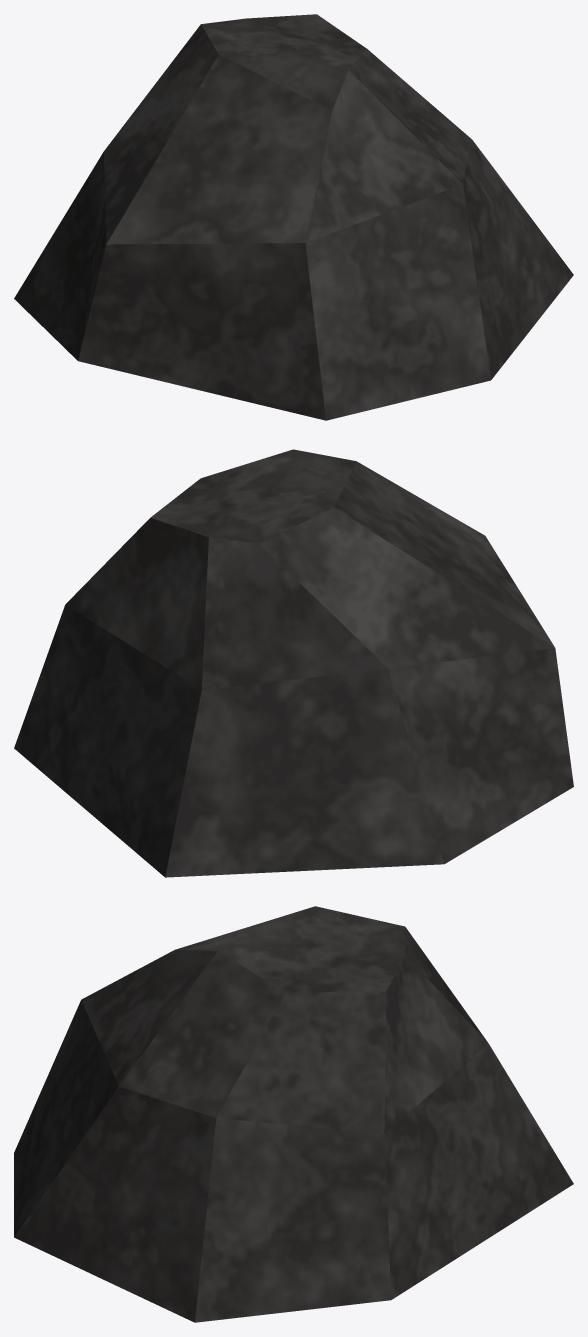
Rendered from rock2.glb.
3 renders of one model, top to bottom at view 1: azimuth 30°, elevation 25°; view 2: azimuth 150°, elevation 25°; view 3: azimuth 270°, elevation 25°, orthographic. The views are drawn at different scales.
Visible parts, largest first — view 1: Cylinder.001; view 2: Cylinder.001; view 3: Cylinder.001.
Part boxes in pixels (x1,y1,x2,y2): Cylinder.001: (14, 14, 573, 420); Cylinder.001: (14, 449, 573, 877); Cylinder.001: (14, 906, 573, 1322).
Size of the model in its own units: 3.26 by 1.65 by 3.16.
1 material, 1 textured.
